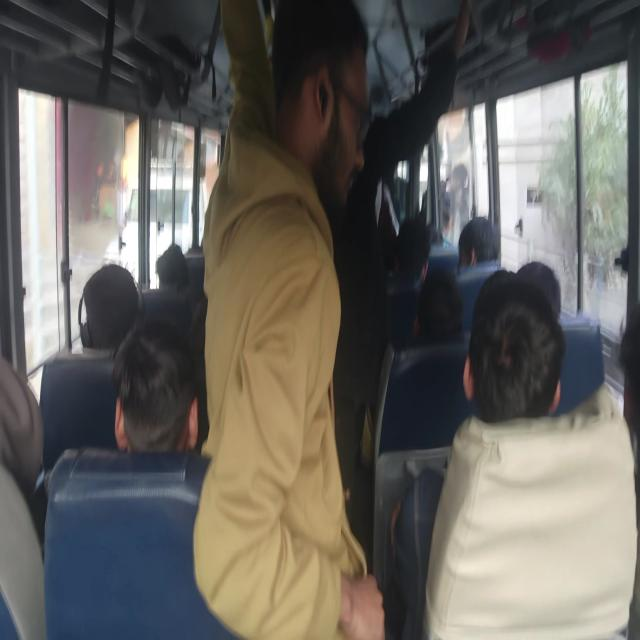person: (284, 4, 395, 214), (482, 278, 568, 415), (0, 353, 60, 540), (125, 318, 175, 441), (279, 25, 331, 142), (86, 250, 134, 343), (147, 225, 197, 298), (394, 215, 442, 288), (518, 260, 567, 328), (611, 320, 640, 434), (431, 270, 472, 350), (463, 206, 501, 279)
